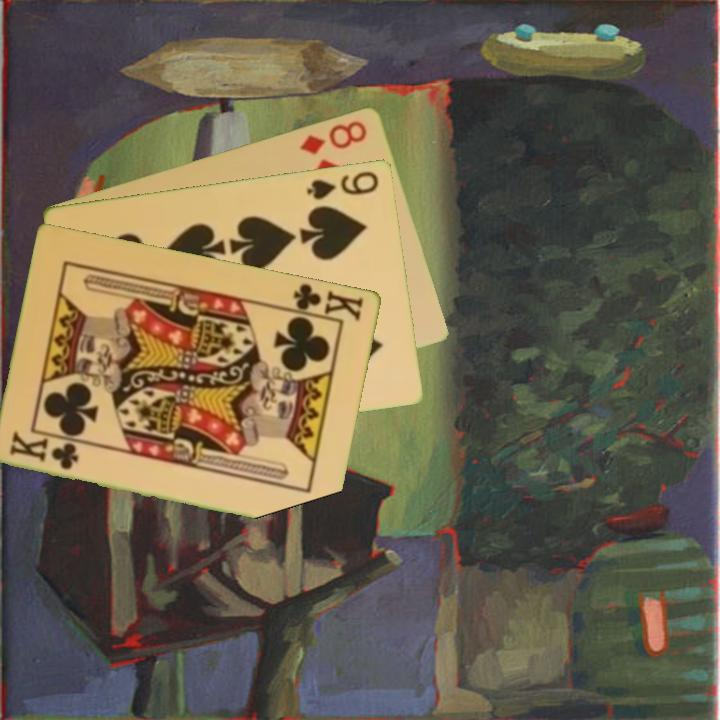8d: (296, 116, 370, 157)
9s: (303, 167, 382, 202)
Kc: (284, 279, 367, 324), (6, 429, 82, 473)
